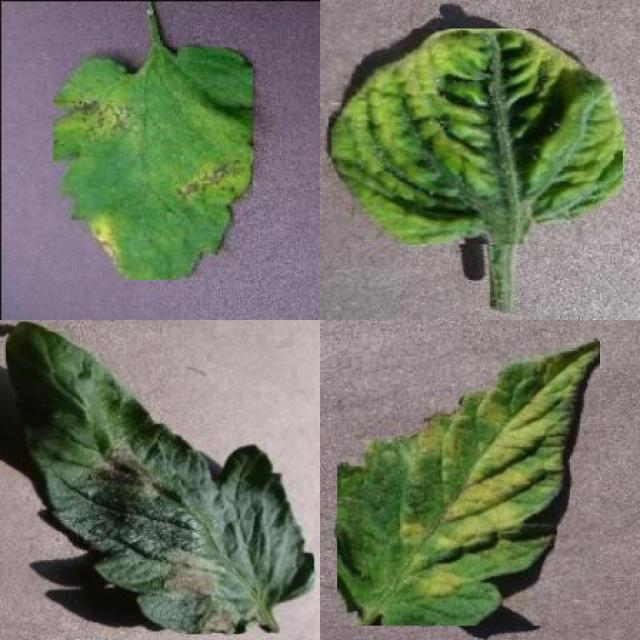Late Blight: (6, 322, 315, 634)
Leaf Mold: (337, 340, 600, 626)
Septoria: (53, 47, 253, 280)
Yellow Leaf Curl Virus: (328, 29, 623, 244)
